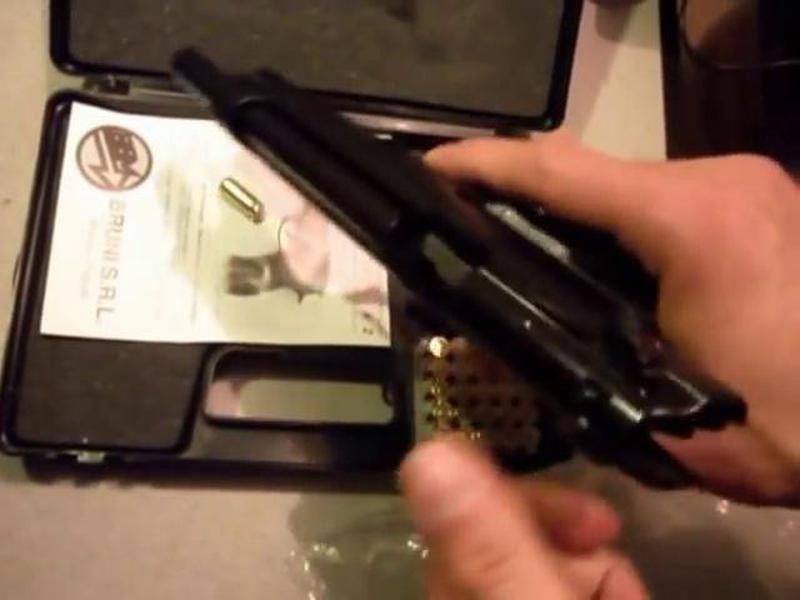Pistola: (153, 32, 760, 502)
